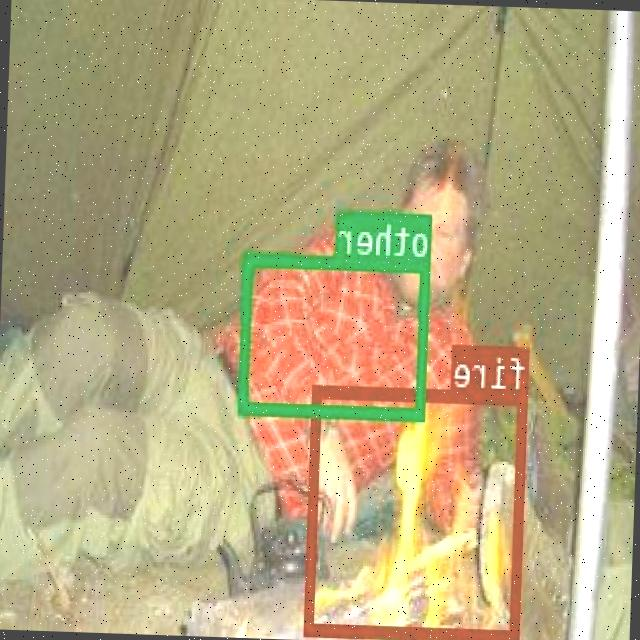fire: (306, 382, 529, 640)
